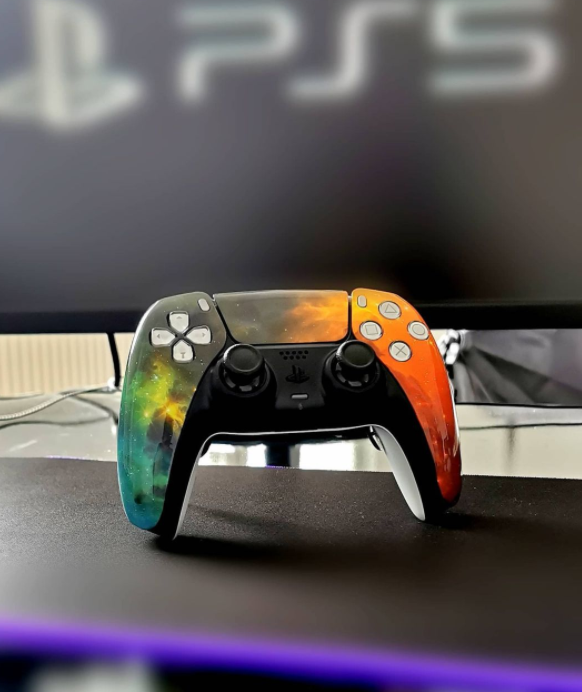gamingconsole: (121, 288, 462, 539)
